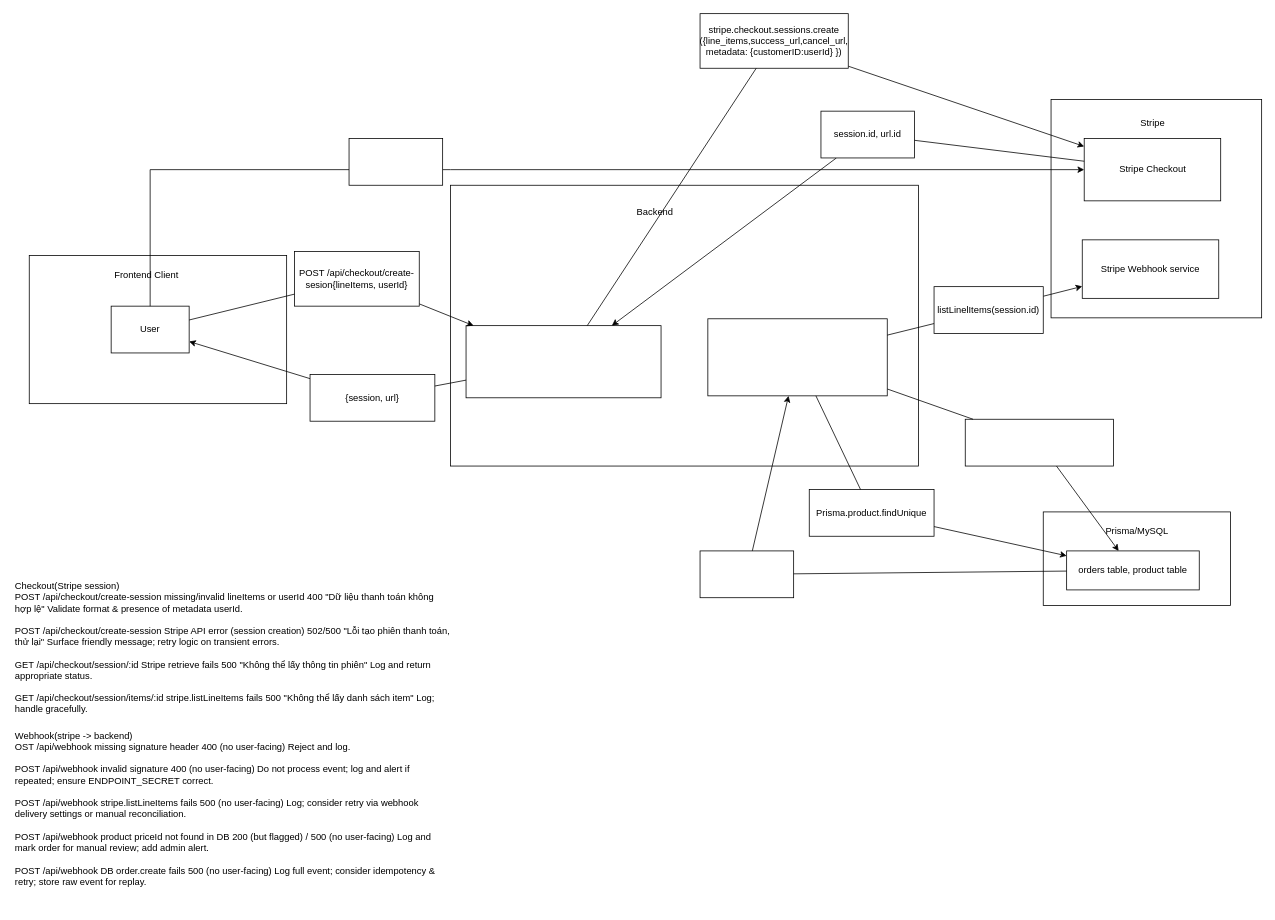
The diagram is 1275 pixels wide and 920 high, and some of its shapes have lost their labels. Here are the shapes that lost their labels. From the top down, the centre of each, then its label:
(395,161): browser redirect {session, urf}
(563,361): Backend Checkout Controller
(797,357): Backend Webhook Handle
(1038,442): prisma.order.create(orderData)
(746,574): order created/event received
